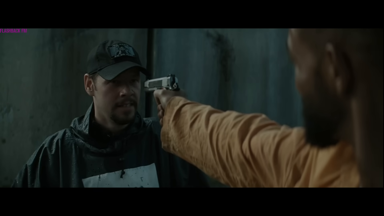firearm: (143, 75, 180, 93)
